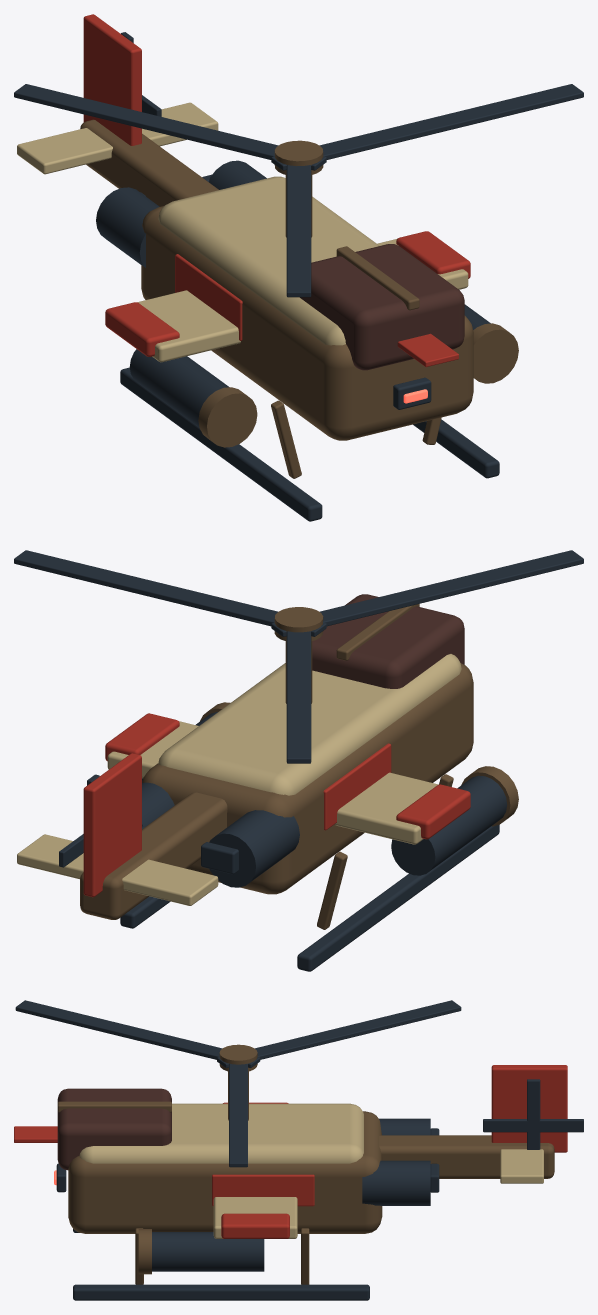
Rendered from gunship-1.glb.
3 views of the same model, one above another, from view 1: azimuth 30°, elevation 25°; view 2: azimuth 150°, elevation 25°; view 3: azimuth 270°, elevation 25° (orthographic). The views are drawn at different scales.
Parts seen in each view (by area): view 1: Airframe_0, CeramicFuselage_1, Cockpit_2, TailFin_24, TailBoom_23, RotorBlade_34, RotorBlade_36, TailPlane_25, Wing_8, Skid_26, WeaponPod_10, RotorBlade_35 (+13 smaller); view 2: CeramicFuselage_1, Airframe_0, Cockpit_2, TailBoom_23, TailFin_24, TailPlane_25, RotorBlade_35, RotorBlade_34, WeaponPod_10, Skid_26, Exhaust_12, Wing_8 (+12 smaller); view 3: Airframe_0, CeramicFuselage_1, Cockpit_2, Skid_29, TailBoom_23, TailFin_24, WeaponPod_18, Exhaust_20, RotorBlade_35, RotorBlade_36, SideEnamel_15, RotorBlade_34 (+11 smaller).
Boxes of the visible parts, x1,y1,x2,y2 form: Airframe_0: (141,206,473,440); CeramicFuselage_1: (158,176,379,345); Cockpit_2: (300,244,464,370); TailFin_24: (83,14,141,145); TailBoom_23: (80,119,218,206); RotorBlade_34: (271,84,583,170); RotorBlade_36: (14,84,326,170); TailPlane_25: (17,102,218,174); Wing_8: (137,290,240,362); Skid_26: (120,367,322,521); WeaponPod_10: (129,349,229,427); RotorBlade_35: (286,165,311,297); CeramicFuselage_1: (158,654,461,795); Airframe_0: (142,663,473,894); Cockpit_2: (312,594,464,688); TailBoom_23: (80,792,227,919); TailFin_24: (83,753,141,897); TailPlane_25: (17,834,218,905); RotorBlade_35: (271,550,583,636); RotorBlade_34: (14,550,326,636); WeaponPod_10: (391,775,507,875); Skid_26: (297,824,499,971); Exhaust_12: (209,810,299,887); Wing_8: (335,772,438,844); Airframe_0: (68,1111,382,1233); CeramicFuselage_1: (79,1103,363,1163); Cockpit_2: (57,1088,171,1170); Skid_29: (73,1284,369,1300); TailBoom_23: (379,1135,554,1178); TailFin_24: (491,1065,567,1152); WeaponPod_18: (152,1232,264,1271); Exhaust_20: (362,1160,430,1205); RotorBlade_35: (15,1000,260,1067); RotorBlade_36: (217,1000,461,1067); SideEnamel_15: (212,1174,314,1206); RotorBlade_34: (229,1063,247,1167).
Bounding box in the file's own units: 2.09 × 1.23 × 2.99.
